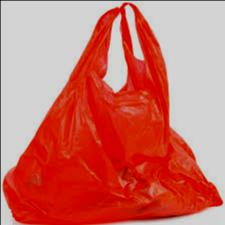Plastic: (2, 2, 223, 224)
